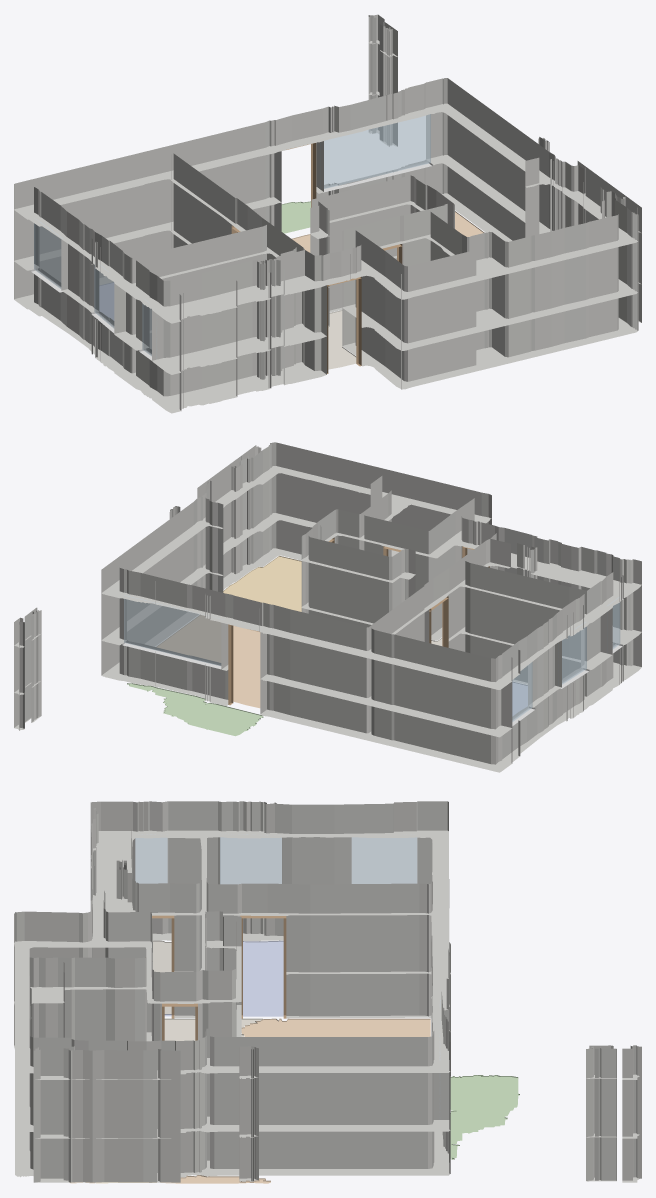
The picture shows the model from 3 angles, top to bottom: view 1: azimuth 30°, elevation 25°; view 2: azimuth 150°, elevation 25°; view 3: azimuth 270°, elevation 25°; orthographic projection. The views are drawn at different scales.
Parts seen in each view (by area): view 1: walls, window_6, window_7, floor_11_Entry, window_8, floor_0_Outdoor, door_5, floor_6_Living_Room, sill_6; view 2: walls, window_6, floor_6_Living_Room, floor_2_Kitchen, floor_0_Outdoor, window_8, window_7, sill_6, door_0, door_1; view 3: walls, floor_0_Outdoor, floor_6_Living_Room, floor_8_Bed_Room, window_7, window_8, window_9, floor_11_Entry, door_1, floor_12_Storage, floor_5_Living_Room.
Boxes of the visible parts, left/top/right/bottom form: walls: left=14, top=14, right=641, bottom=413; window_6: left=320, top=114, right=430, bottom=189; window_7: left=34, top=219, right=62, bottom=288; floor_11_Entry: left=328, top=310, right=356, bottom=369; window_8: left=94, top=264, right=114, bottom=328; floor_0_Outdoor: left=281, top=201, right=310, bottom=233; door_5: left=327, top=277, right=361, bottom=373; floor_6_Living_Room: left=291, top=211, right=484, bottom=252; sill_6: left=323, top=161, right=432, bottom=192; walls: left=14, top=442, right=641, bottom=772; window_6: left=124, top=595, right=224, bottom=665; floor_6_Living_Room: left=157, top=615, right=260, bottom=708; floor_2_Kitchen: left=223, top=556, right=301, bottom=611; floor_0_Outdoor: left=127, top=683, right=263, bottom=736; window_8: left=558, top=622, right=586, bottom=685; window_7: left=512, top=662, right=532, bottom=721; sill_6: left=122, top=641, right=221, bottom=669; door_0: left=228, top=624, right=259, bottom=705; door_1: left=429, top=596, right=448, bottom=647; walls: left=14, top=801, right=641, bottom=1182; floor_0_Outdoor: left=450, top=1075, right=519, bottom=1159; floor_6_Living_Room: left=241, top=1018, right=430, bottom=1036; floor_8_Bed_Room: left=243, top=940, right=283, bottom=1016; window_7: left=351, top=837, right=417, bottom=883; window_8: left=220, top=834, right=281, bottom=884; window_9: left=135, top=834, right=167, bottom=883; floor_11_Entry: left=164, top=1018, right=262, bottom=1040; door_1: left=240, top=915, right=286, bottom=1018; floor_12_Storage: left=152, top=940, right=171, bottom=1013; floor_5_Living_Room: left=160, top=1175, right=270, bottom=1183.
Size of the model in its own units: 10.94 by 2.72 by 11.64.
